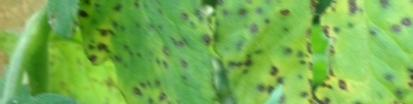Tomato Septoria leaf spot: (200, 0, 413, 104), (40, 0, 213, 104)
